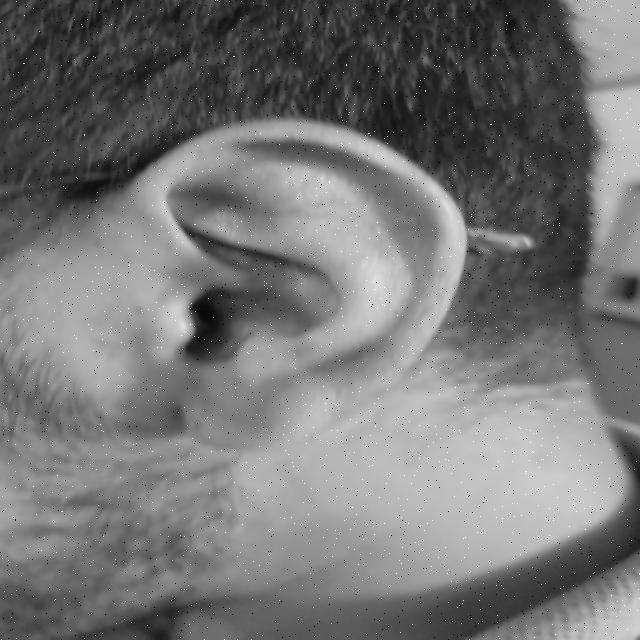ear: (117, 119, 466, 448)
